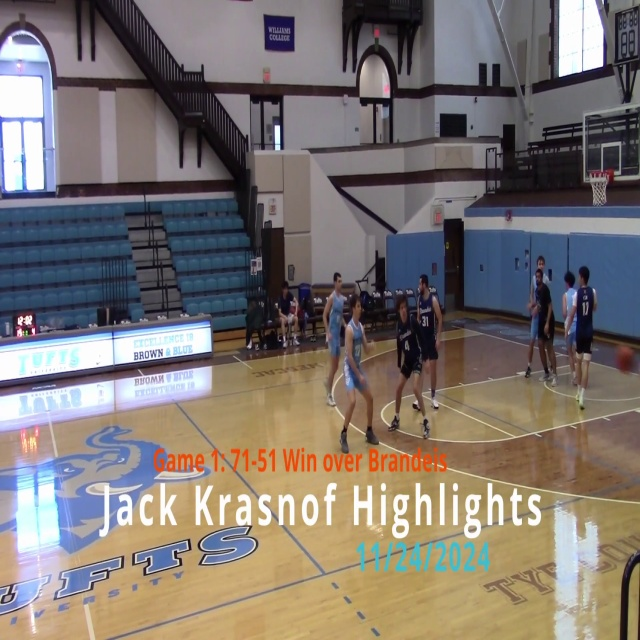Basketball: (615, 346, 634, 372), (528, 303, 541, 316)
